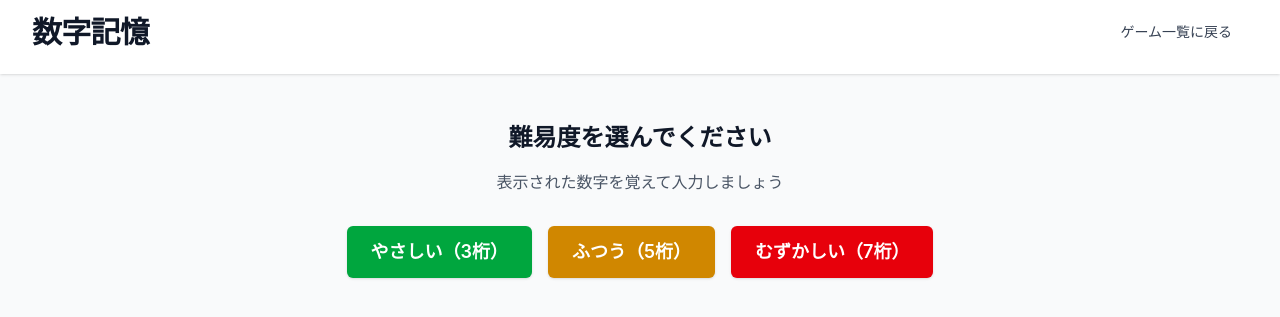
Test: NumberMemoryGame › should start game with normal difficulty
Step 1. Click the button "ふつう（5桁）" → (632, 252), box 548,226 -> 715,278
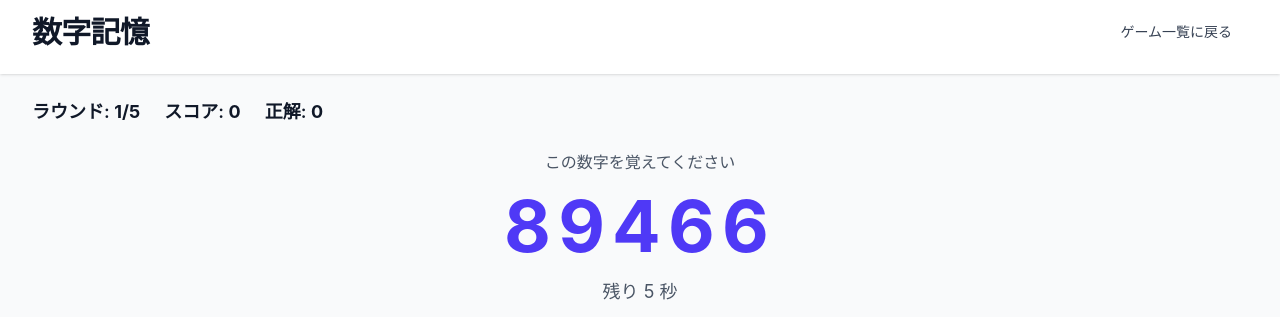
expect the text "この数字を覚えてください" is shown: met, box 545,150 -> 735,174
